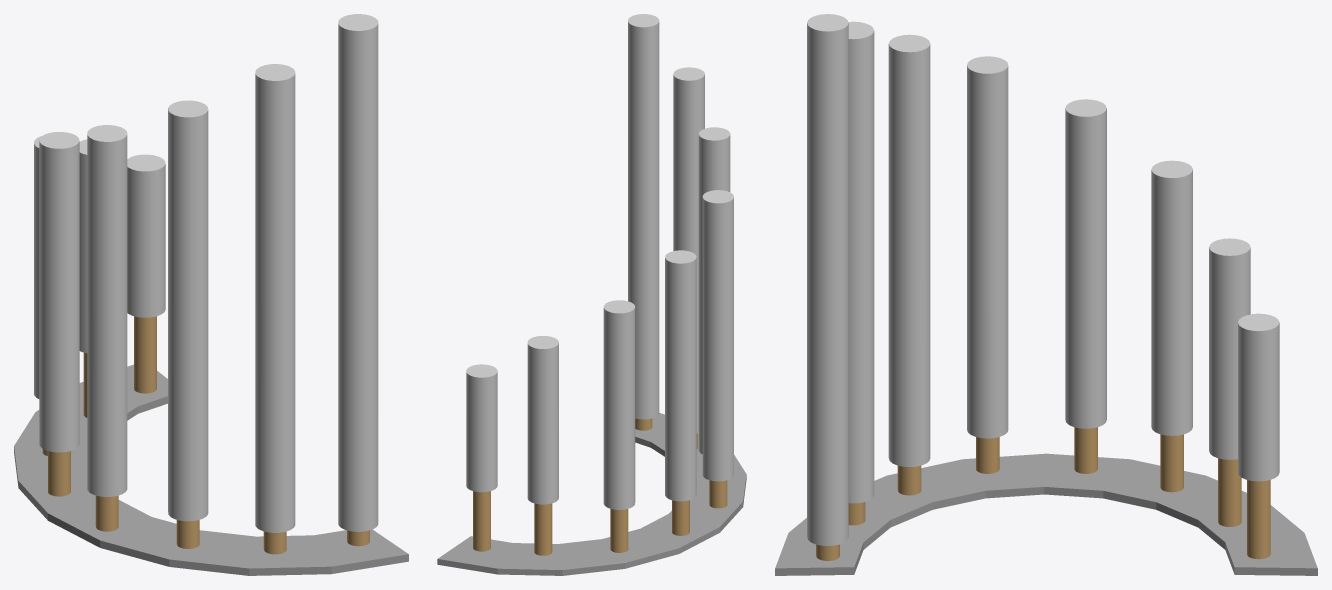
Rendered from BoomWackers_Test.fbx.
The picture shows the model from 3 angles, left to right: view 1: azimuth 30°, elevation 25°; view 2: azimuth 150°, elevation 25°; view 3: azimuth 270°, elevation 25°; orthographic projection. The views are drawn at different scales.
Visible parts, largest first — view 1: pCylinder1, pCylinder2, pCylinder17, pCylinder3, pCylinder4, pCylinder5, pCylinder8, pCylinder7, pCylinder16, pCylinder6, pCylinder13, pCylinder12 (+2 smaller); view 2: pCylinder1, pCylinder17, pCylinder4, pCylinder5, pCylinder6, pCylinder2, pCylinder7, pCylinder8, pCylinder3, pCylinder16, pCylinder15, pCylinder14 (+2 smaller); view 3: pCylinder1, pCylinder17, pCylinder3, pCylinder4, pCylinder5, pCylinder2, pCylinder6, pCylinder7, pCylinder8, pCylinder16, pCylinder15, pCylinder14 (+3 smaller).
Part boxes in pixels (bbox=[...]): pCylinder1: bbox=[338, 14, 378, 531]; pCylinder2: bbox=[255, 64, 295, 532]; pCylinder17: bbox=[14, 364, 408, 575]; pCylinder3: bbox=[168, 100, 208, 521]; pCylinder4: bbox=[87, 125, 127, 496]; pCylinder5: bbox=[39, 132, 79, 452]; pCylinder8: bbox=[127, 154, 165, 317]; pCylinder7: bbox=[79, 139, 87, 353]; pCylinder16: bbox=[134, 316, 156, 393]; pCylinder6: bbox=[34, 136, 41, 398]; pCylinder13: bbox=[48, 451, 70, 496]; pCylinder12: bbox=[95, 495, 118, 531]; pCylinder1: bbox=[628, 14, 659, 419]; pCylinder17: bbox=[437, 413, 746, 575]; pCylinder4: bbox=[702, 190, 733, 481]; pCylinder5: bbox=[665, 250, 696, 501]; pCylinder6: bbox=[603, 300, 635, 509]; pCylinder2: bbox=[673, 67, 704, 433]; pCylinder7: bbox=[527, 336, 558, 504]; pCylinder8: bbox=[466, 364, 497, 492]; pCylinder3: bbox=[698, 127, 730, 454]; pCylinder16: bbox=[473, 491, 490, 551]; pCylinder15: bbox=[534, 503, 552, 555]; pCylinder14: bbox=[610, 509, 628, 552]; pCylinder1: bbox=[807, 14, 848, 545]; pCylinder17: bbox=[775, 453, 1317, 575]; pCylinder3: bbox=[888, 34, 930, 467]; pCylinder4: bbox=[967, 56, 1008, 438]; pCylinder5: bbox=[1065, 99, 1106, 428]; pCylinder2: bbox=[848, 21, 874, 503]; pCylinder6: bbox=[1151, 160, 1192, 435]; pCylinder7: bbox=[1209, 238, 1250, 459]; pCylinder8: bbox=[1238, 313, 1279, 481]; pCylinder16: bbox=[1247, 480, 1270, 559]; pCylinder15: bbox=[1218, 458, 1241, 526]; pCylinder14: bbox=[1160, 434, 1183, 492].
Bounding box in the file's own units: 2.29 × 5.03 × 4.57.
